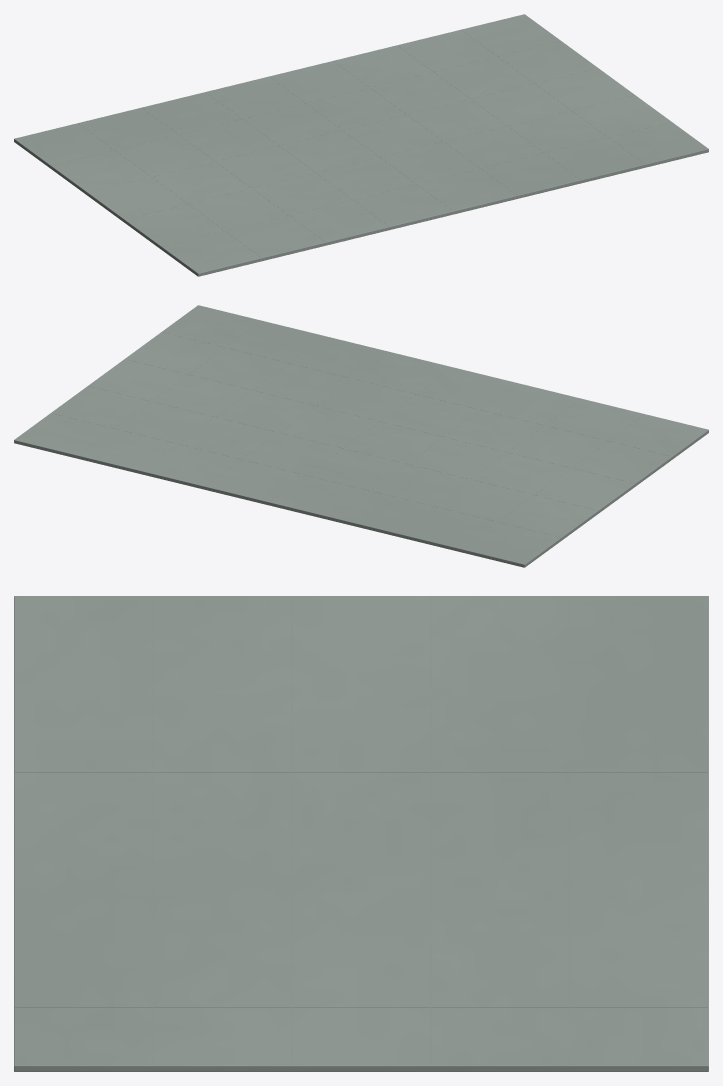
The model's file is Main_Floor.glb.
The picture shows the model from 3 angles, top to bottom: view 1: azimuth 30°, elevation 25°; view 2: azimuth 150°, elevation 25°; view 3: azimuth 270°, elevation 25°; orthographic projection. The views are drawn at different scales.
Parts seen in each view (by area): view 1: Main_Floor; view 2: Main_Floor; view 3: Main_Floor.
Part boxes in pixels (x1=…): Main_Floor: x1=14, y1=14, x2=708, y2=276; Main_Floor: x1=14, y1=305, x2=708, y2=567; Main_Floor: x1=14, y1=596, x2=708, y2=1071.
Bounding box in the file's own units: 32 × 0.204 × 20.
Materials: 2 (1 with a texture image).
